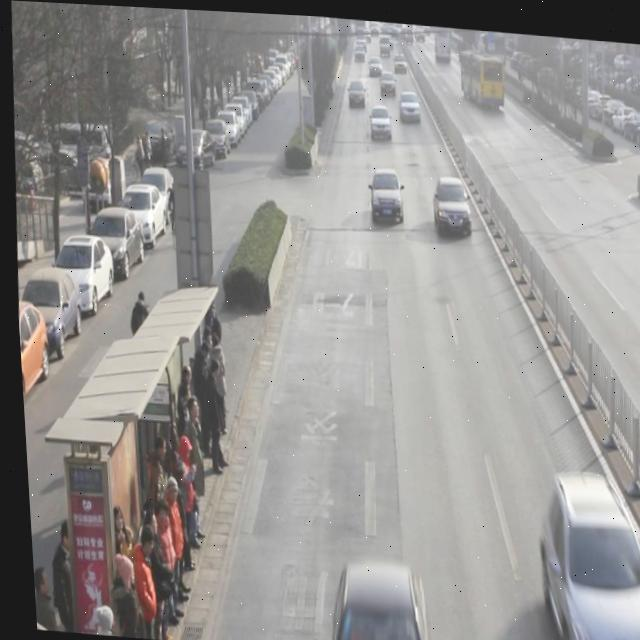car: (526, 460, 640, 640), (429, 168, 472, 232), (366, 161, 404, 220), (367, 97, 392, 135), (397, 83, 422, 118), (346, 70, 366, 102)
